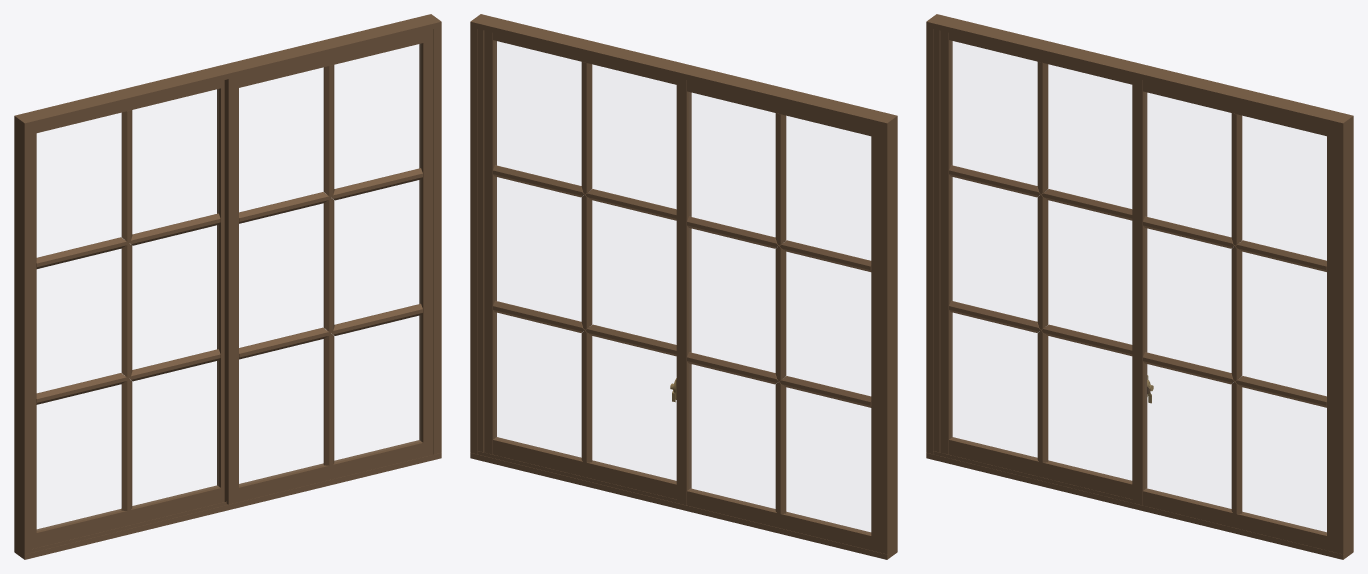
File: window-2.glb
3 renders of one model, left to right at view 1: azimuth 30°, elevation 25°; view 2: azimuth 150°, elevation 25°; view 3: azimuth 330°, elevation 25°, orthographic.
Visible parts, largest first — view 1: Material2 (×20); view 2: Material2 (×20); view 3: Material2 (×20).
Part boxes in pixels (left/top/right/bottom): Material2 (×20): left=14, top=14, right=441, bottom=559; Material2 (×20): left=470, top=14, right=897, bottom=559; Material2 (×20): left=926, top=14, right=1353, bottom=559.
Bounding box in the file's own units: 1.51 × 1.51 × 0.0661.
